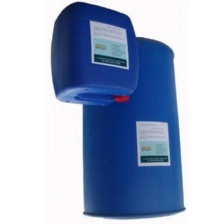cleaning_solution: (47, 1, 140, 108)
